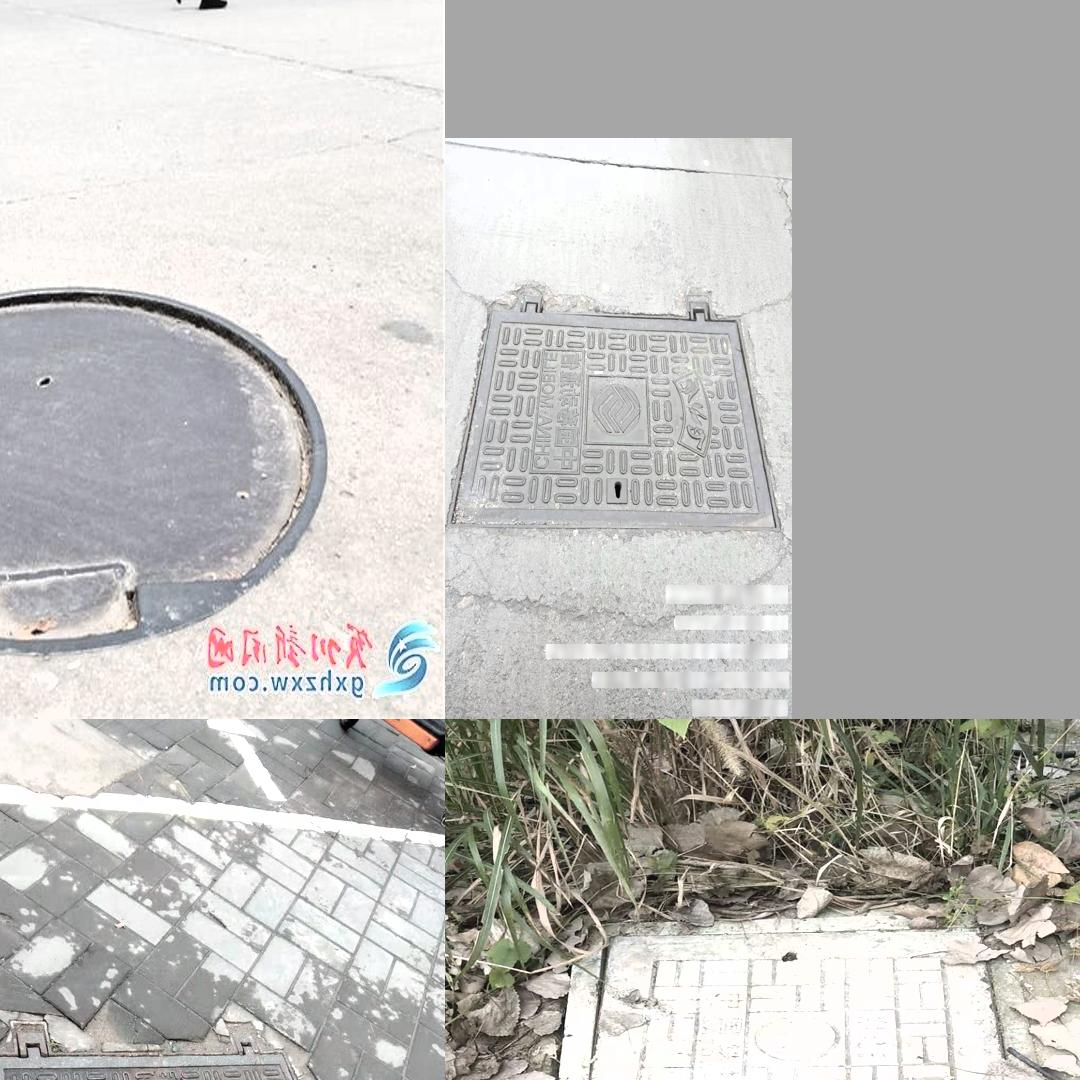good: (0, 260, 338, 665), (524, 915, 1080, 1080), (445, 294, 779, 531), (0, 1026, 375, 1080)
